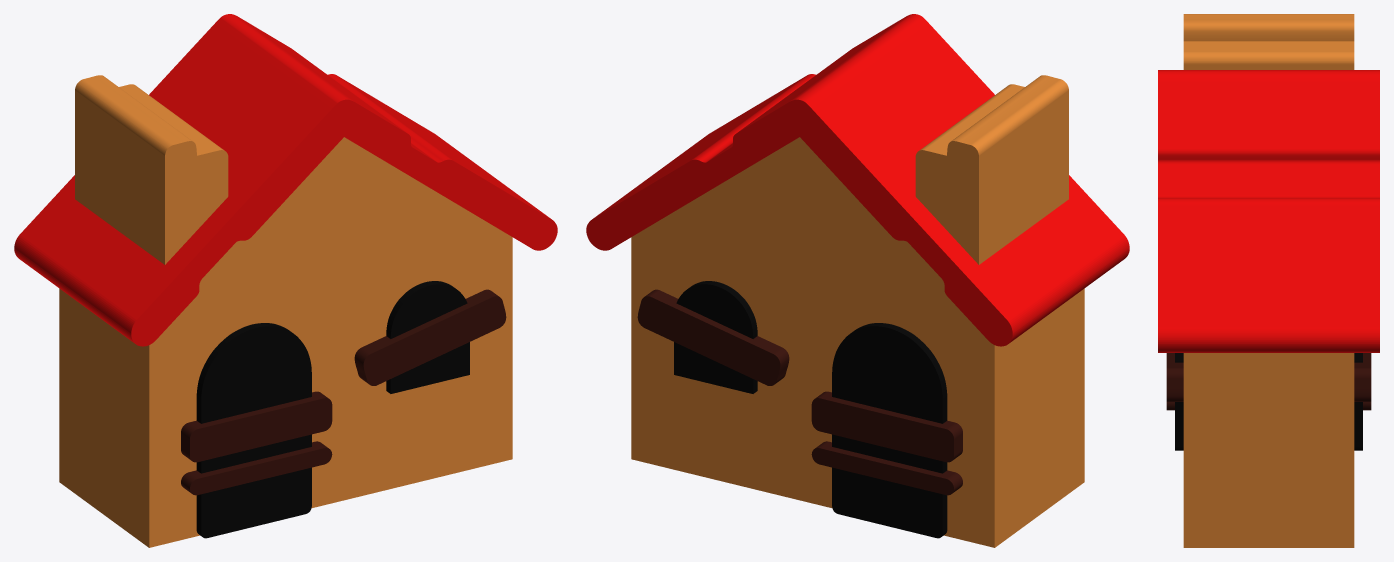
3 views of the same model, side by side, from view 1: azimuth 30°, elevation 25°; view 2: azimuth 150°, elevation 25°; view 3: azimuth 270°, elevation 25° (orthographic). The views are drawn at different scales.
Visible parts, largest first — view 1: U+1F3DA_layer00_obj00, U+1F3DA_layer03_obj00, U+1F3DA_layer01_obj00, U+1F3DA_layer02_obj00; view 2: U+1F3DA_layer00_obj00, U+1F3DA_layer03_obj00, U+1F3DA_layer01_obj00, U+1F3DA_layer02_obj00; view 3: U+1F3DA_layer03_obj00, U+1F3DA_layer00_obj00, U+1F3DA_layer02_obj00, U+1F3DA_layer01_obj00.
Part boxes in pixels (bbox=[...]): U+1F3DA_layer00_obj00: bbox=[59, 75, 512, 547]; U+1F3DA_layer03_obj00: bbox=[14, 14, 557, 346]; U+1F3DA_layer01_obj00: bbox=[196, 281, 469, 538]; U+1F3DA_layer02_obj00: bbox=[181, 289, 506, 495]; U+1F3DA_layer00_obj00: bbox=[631, 75, 1084, 547]; U+1F3DA_layer03_obj00: bbox=[586, 14, 1129, 346]; U+1F3DA_layer01_obj00: bbox=[674, 281, 947, 538]; U+1F3DA_layer02_obj00: bbox=[637, 289, 962, 495]; U+1F3DA_layer03_obj00: bbox=[1158, 70, 1379, 352]; U+1F3DA_layer00_obj00: bbox=[1183, 14, 1354, 547]; U+1F3DA_layer02_obj00: bbox=[1166, 353, 1371, 410]; U+1F3DA_layer01_obj00: bbox=[1175, 353, 1362, 450].
Bounding box in the file's own units: 0.5472 × 0.5071 × 0.26.
